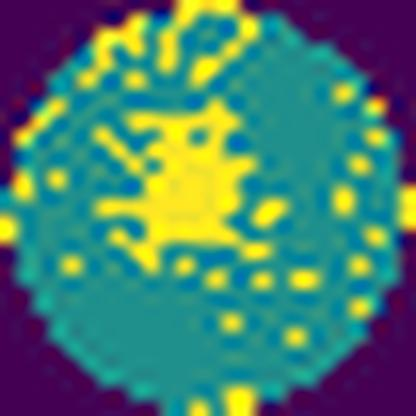Center: (98, 98, 256, 278)
